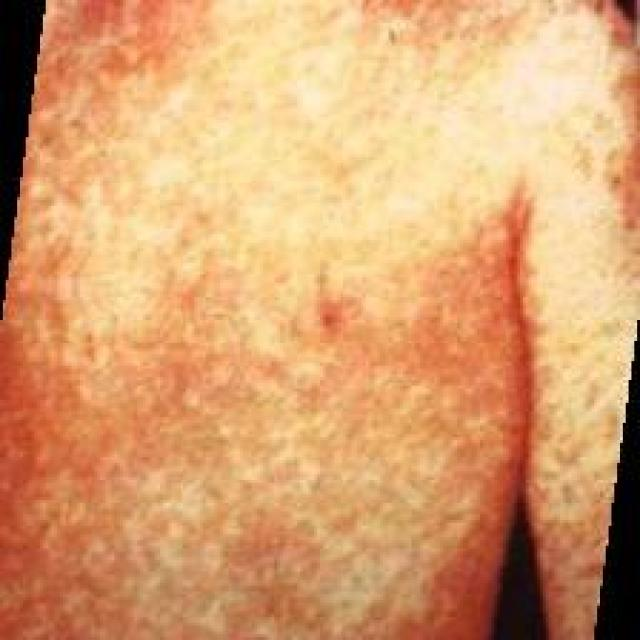others: (24, 0, 605, 640)
